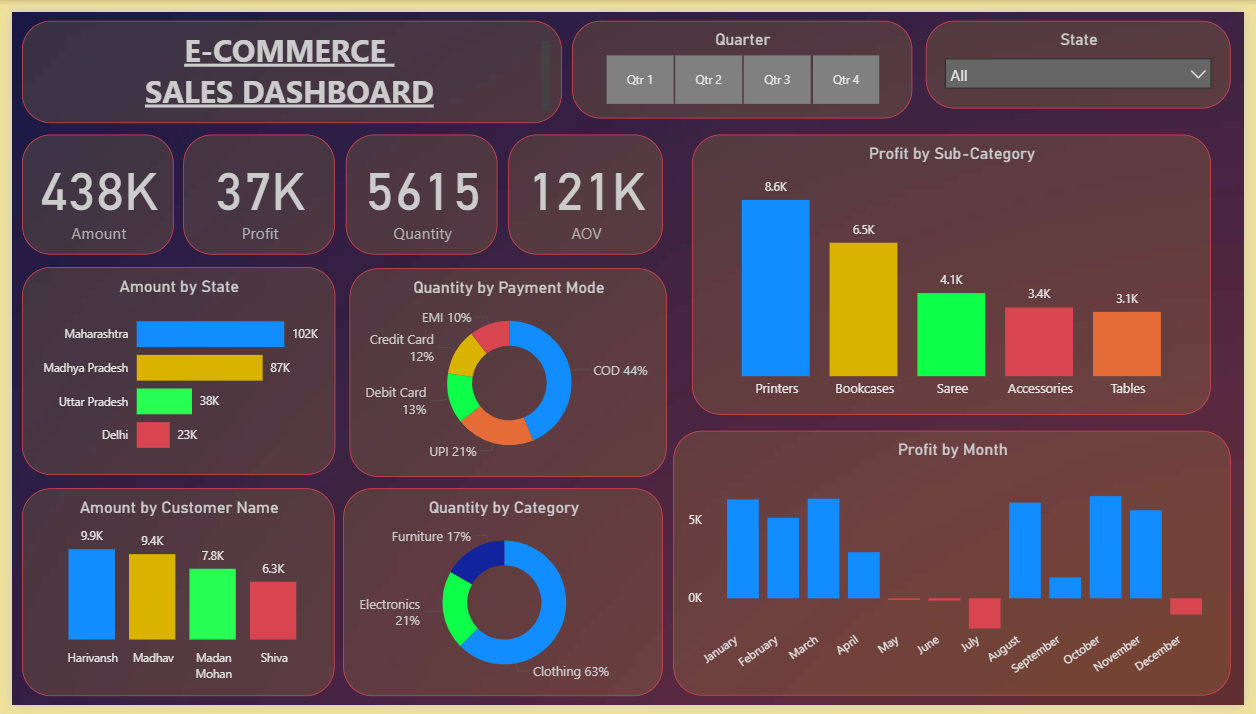

The page's visual inventory and layout, read from the dashboard file:
{"tool":"powerbi","page":{"name":"Page 1","canvas":[1280,720],"ordinal":0},"visuals":[{"type":"textbox","box":[10.4,9.1,561,106.5],"z":0},{"type":"columnChart","fields":{"Y":["Details.Profit"],"Category":["Orders.Order Date.Variation.Date Hierarchy.Month"]},"box":[687.3,434.6,579.4,275.5],"z":1000},{"type":"columnChart","fields":{"Category":["Details.Sub-Category"],"Y":["Details.Profit"]},"box":[706.5,127.3,539,290.9],"z":2000},{"type":"donutChart","fields":{"Category":["Details.Category"],"Y":["Details.Quantity"]},"box":[343.7,494.2,332.3,215.9],"z":3000},{"type":"donutChart","fields":{"Y":["Details.Quantity"],"Category":["Details.PaymentMode"]},"box":[350.6,266.2,329.9,216.9],"z":4000},{"type":"card","fields":{"Values":["Details.Amount"]},"box":[9.9,127.8,157.6,125],"z":5000},{"type":"card","fields":{"Values":["Details.Profit"]},"box":[178.5,127.8,157.6,125],"z":6000},{"type":"card","fields":{"Values":["Details.Quantity"]},"box":[347,127.8,157.6,125],"z":7000},{"type":"card","fields":{"Values":["Details.AOV"]},"box":[515.5,127.8,160.5,125],"z":8000},{"type":"barChart","fields":{"Category":["Orders.State"],"Y":["Details.Amount"]},"box":[9.9,265.6,325.2,215.9],"z":9000},{"type":"columnChart","fields":{"Category":["Orders.Customer Name"],"Y":["Details.Amount"]},"box":[10,494.2,325,216],"z":10000},{"type":"slicer","title":"Quarter","fields":{"Values":["Orders.Order Date.Variation.Date Hierarchy.Quarter"]},"box":[581.8,9.1,353.2,101.3],"z":11000},{"type":"slicer","title":"State","fields":{"Values":["Orders.State"]},"box":[949.4,9.1,316.9,90.9],"z":12000}]}

Visuals, with their boxes in screenshot pixels (x1, y1, x2, y2), scaled from the page's 1280x720 canvas onto the 1256x714 screenshot:
textbox: {"x1": 10, "y1": 9, "x2": 561, "y2": 115}
columnChart - Details.Profit x Orders.Order Date.Variation.Date Hierarchy.Month: {"x1": 674, "y1": 431, "x2": 1243, "y2": 704}
columnChart - Details.Sub-Category x Details.Profit: {"x1": 693, "y1": 126, "x2": 1222, "y2": 415}
donutChart - Details.Category x Details.Quantity: {"x1": 337, "y1": 490, "x2": 663, "y2": 704}
donutChart - Details.Quantity x Details.PaymentMode: {"x1": 344, "y1": 264, "x2": 668, "y2": 479}
card - Details.Amount: {"x1": 10, "y1": 127, "x2": 164, "y2": 251}
card - Details.Profit: {"x1": 175, "y1": 127, "x2": 330, "y2": 251}
card - Details.Quantity: {"x1": 340, "y1": 127, "x2": 495, "y2": 251}
card - Details.AOV: {"x1": 506, "y1": 127, "x2": 663, "y2": 251}
barChart - Orders.State x Details.Amount: {"x1": 10, "y1": 263, "x2": 329, "y2": 477}
columnChart - Orders.Customer Name x Details.Amount: {"x1": 10, "y1": 490, "x2": 329, "y2": 704}
"Quarter" slicer: {"x1": 571, "y1": 9, "x2": 917, "y2": 109}
"State" slicer: {"x1": 932, "y1": 9, "x2": 1243, "y2": 99}
